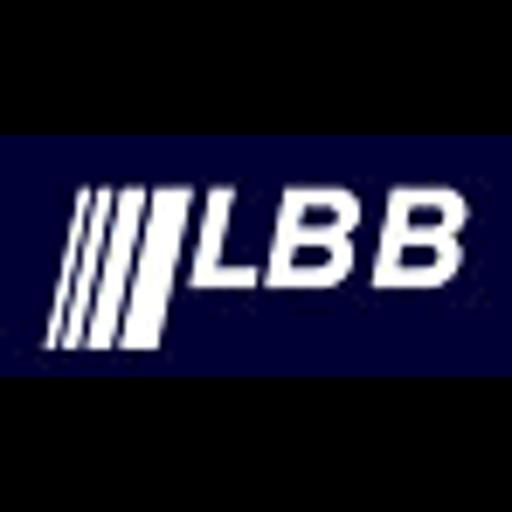Landesbank Berlin AG: (0, 135, 512, 377)
